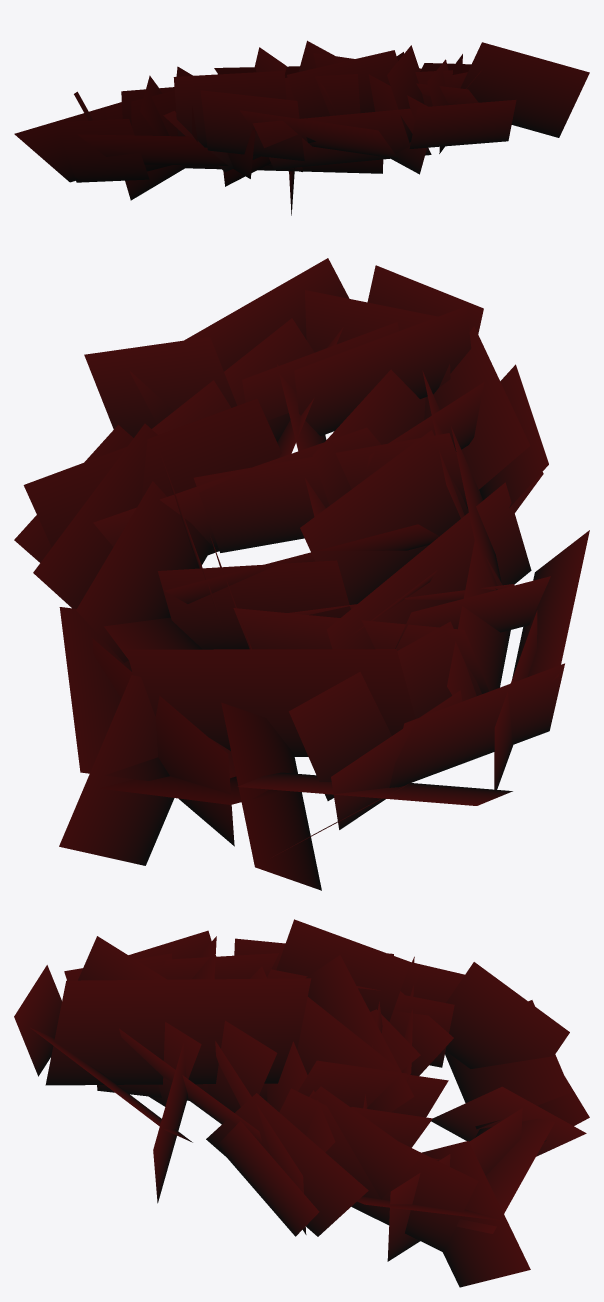
3 views of the same model, one above another, from view 1: azimuth 30°, elevation 25°; view 2: azimuth 150°, elevation 25°; view 3: azimuth 270°, elevation 25° (orthographic). The views are drawn at different scales.
Parts seen in each view (by area): view 1: G:\FFXIV-MapTools\exports\d2f2\bg\ex1\02_dra_d2\fld\d2f2\bgp; view 2: G:\FFXIV-MapTools\exports\d2f2\bg\ex1\02_dra_d2\fld\d2f2\bgp; view 3: G:\FFXIV-MapTools\exports\d2f2\bg\ex1\02_dra_d2\fld\d2f2\bgp.
Part boxes in pixels (x1,y1,x2,y2): G:\FFXIV-MapTools\exports\d2f2\bg\ex1\02_dra_d2\fld\d2f2\bgp: (14, 40, 589, 215); G:\FFXIV-MapTools\exports\d2f2\bg\ex1\02_dra_d2\fld\d2f2\bgp: (14, 258, 589, 890); G:\FFXIV-MapTools\exports\d2f2\bg\ex1\02_dra_d2\fld\d2f2\bgp: (14, 919, 589, 1287).
Size of the model in its own units: 3.97 by 2.51 by 4.01.
